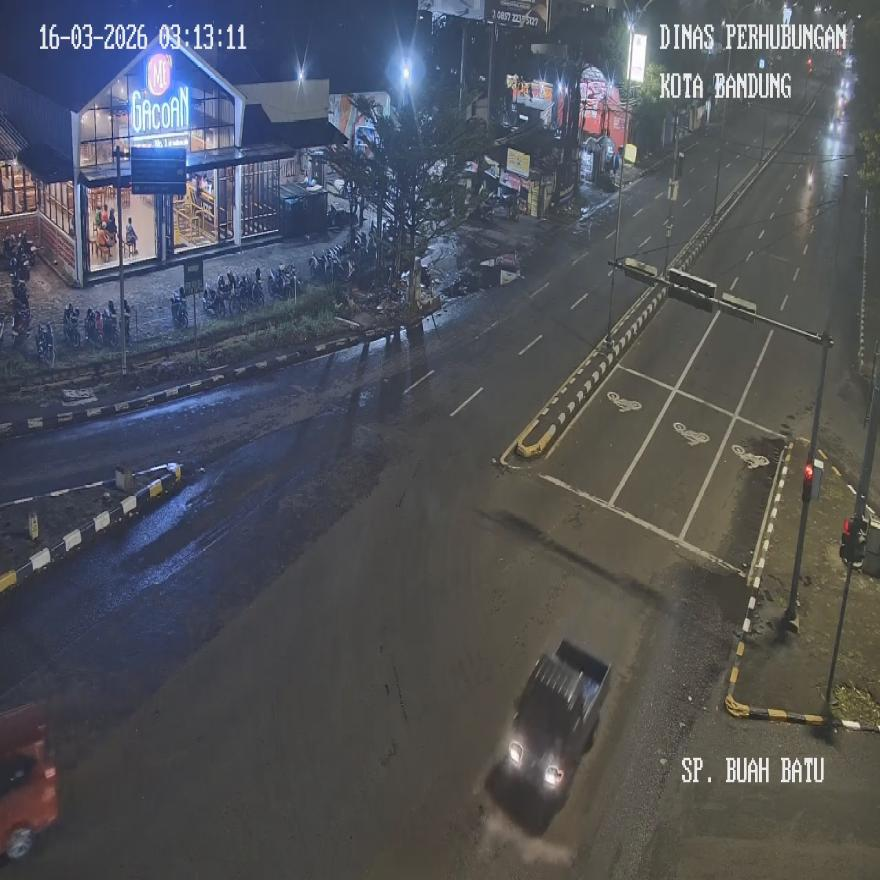Motor: (99, 303, 118, 348), (62, 308, 82, 348), (83, 307, 103, 347), (324, 244, 344, 282), (170, 287, 188, 328), (36, 323, 54, 364), (203, 281, 223, 317), (125, 218, 138, 256), (252, 269, 264, 308), (308, 252, 324, 281)
